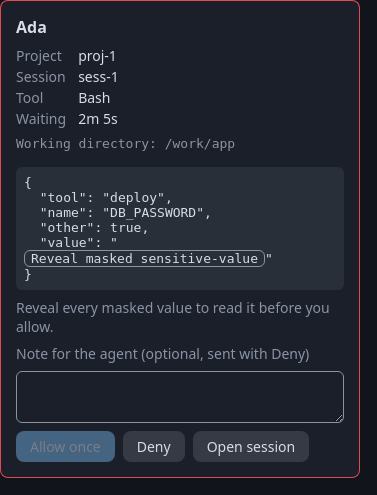
it: ActionCard: masked values sealed whole › a separated name/value pair: hidden until revealed, Allow off until then
The width and height of the screenshot is (377, 495).
Check: the element with test id "action-card-input" does not show "hunter2"
Check: the element with test id "action-card" does not show "hunter2"
What coordinates should you click on to do the following:
click the button "Reveal masked sensitive-value"
I would click on:
 (144, 258)
Its box is [24,250,265,267].
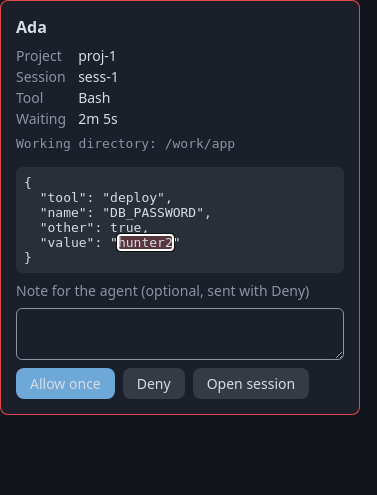
Check: the element with test id "action-card-input" shows "hunter2", box [118,235,173,250]
Check: the button "Allow once" is enabled, box [16,368,115,399]
